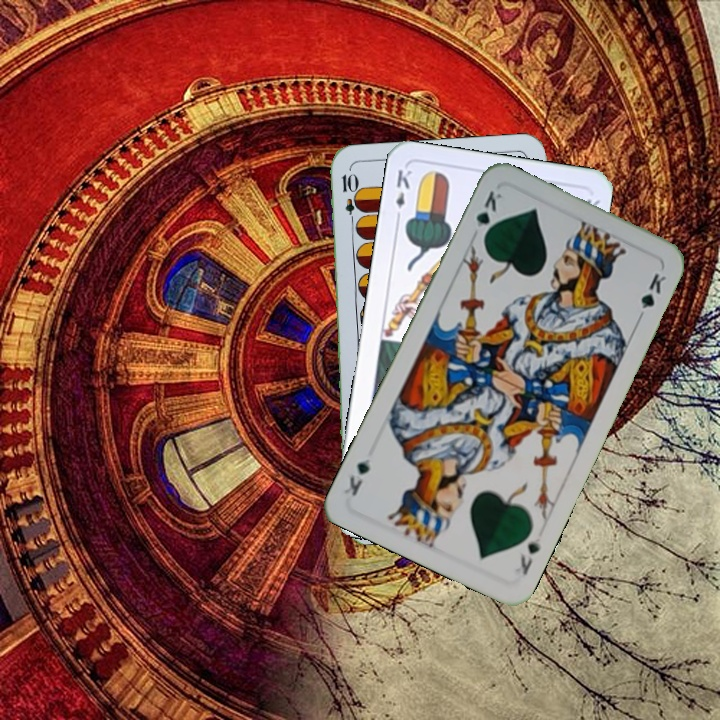E10: (338, 169, 359, 229)
EK: (391, 165, 414, 224)
GK: (472, 187, 505, 244), (510, 527, 546, 578)
